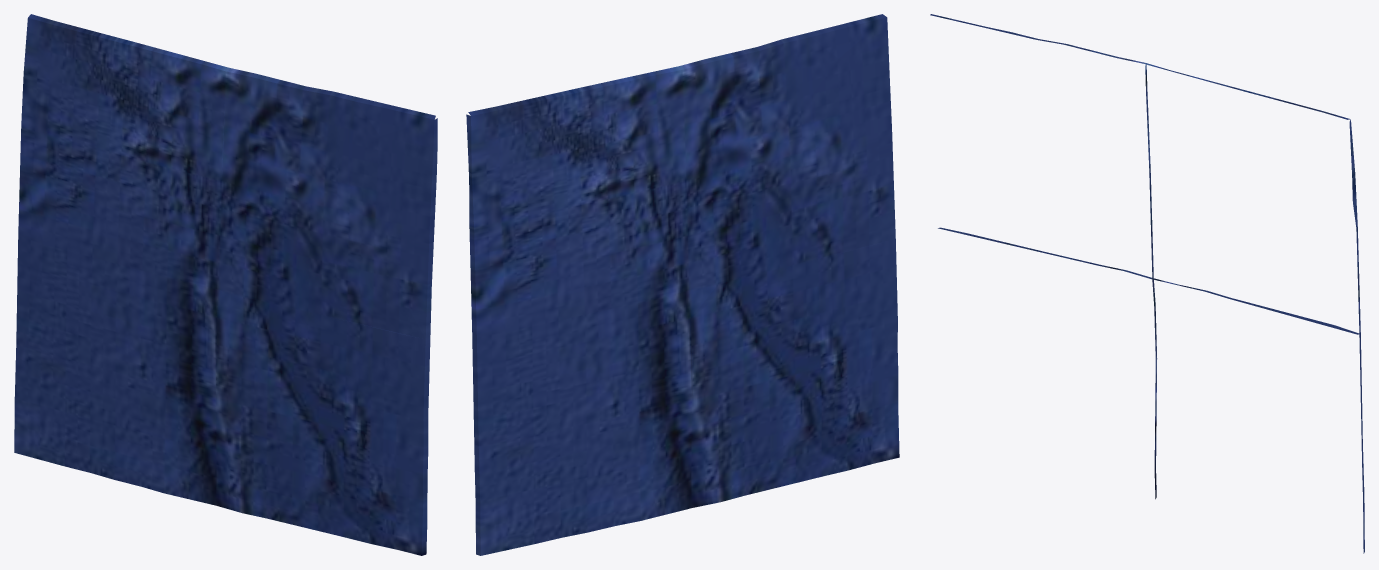
The picture shows the model from 3 angles, left to right: view 1: azimuth 90°, elevation 25°; view 2: azimuth 150°, elevation 25°; view 3: azimuth 270°, elevation 25°; orthographic projection. The views are drawn at different scales.
Size of the model in its own units: 355583 by 628322 by 559383.
Materials: 1 (1 with a texture image).
